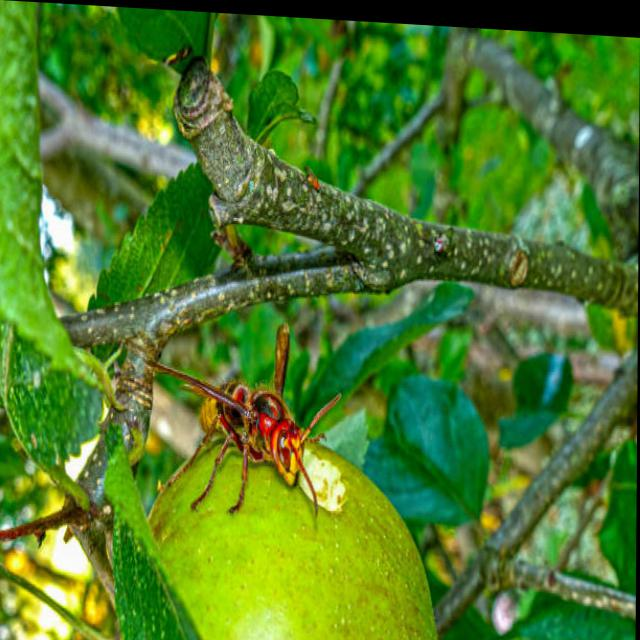Vespa Crabro: (118, 304, 354, 549)
